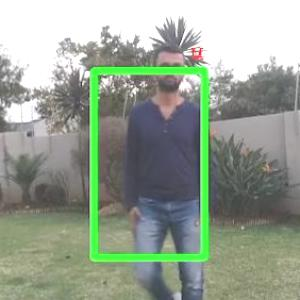follow: (108, 17, 222, 299)
